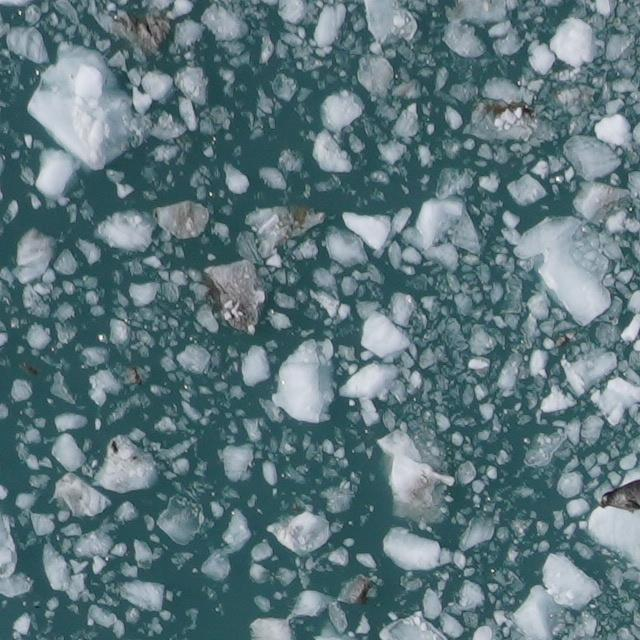seal: (599, 480, 639, 512)
